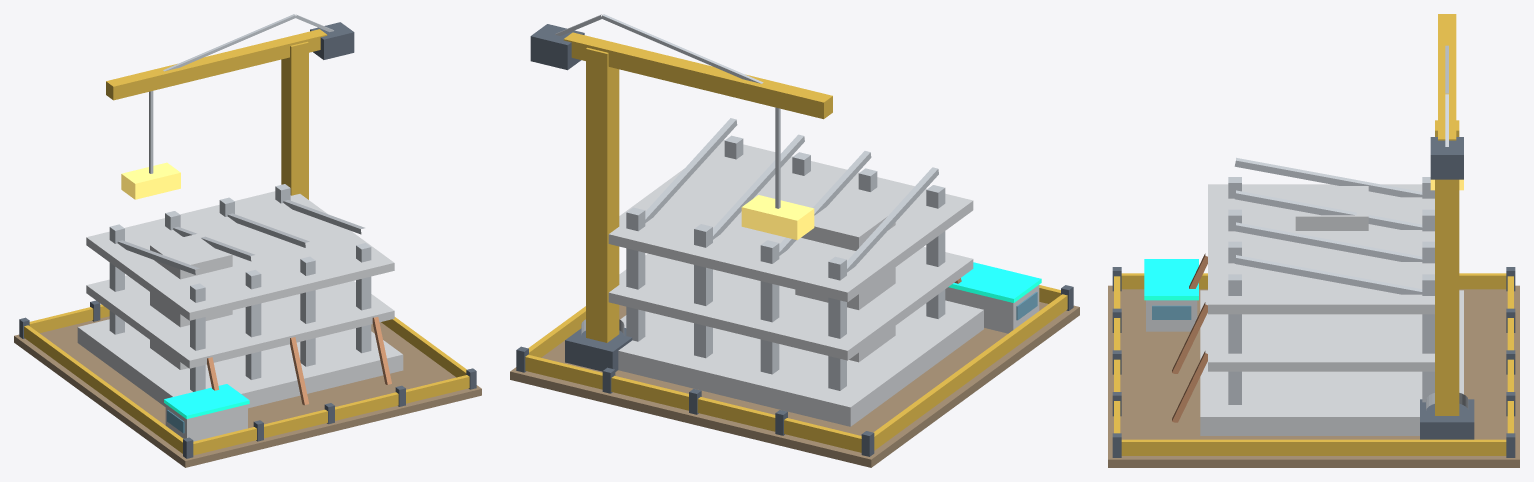
File: stage_4_structural.master.glb
The picture shows the model from 3 angles, left to right: view 1: azimuth 30°, elevation 25°; view 2: azimuth 150°, elevation 25°; view 3: azimuth 270°, elevation 25°; orthographic projection. The views are drawn at different scales.
Visible parts, largest first — view 1: stage_4_structural_master; view 2: stage_4_structural_master; view 3: stage_4_structural_master.
Part boxes in pixels (left/top/right/bottom): stage_4_structural_master: left=14, top=14, right=481, bottom=467; stage_4_structural_master: left=510, top=14, right=1079, bottom=467; stage_4_structural_master: left=1108, top=14, right=1519, bottom=467.
Size of the model in its own units: 2.78 by 2.53 by 2.72.
